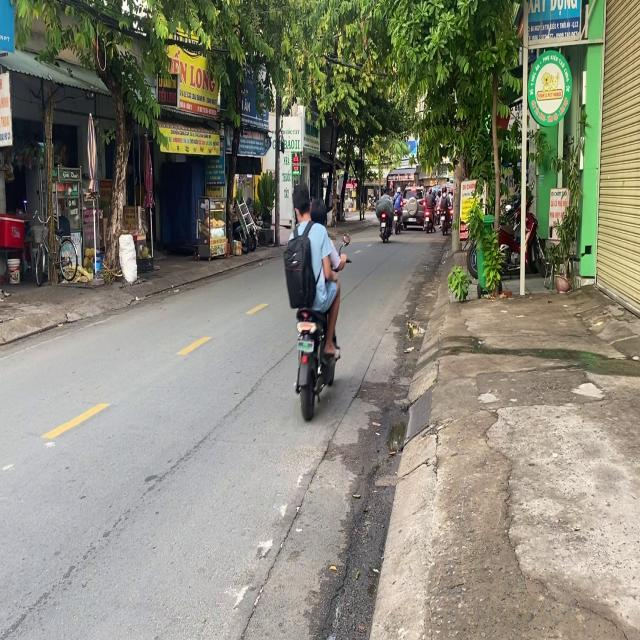licenseplate: (282, 178, 344, 418)
motorcyclist: (290, 181, 312, 223), (310, 197, 328, 226)
